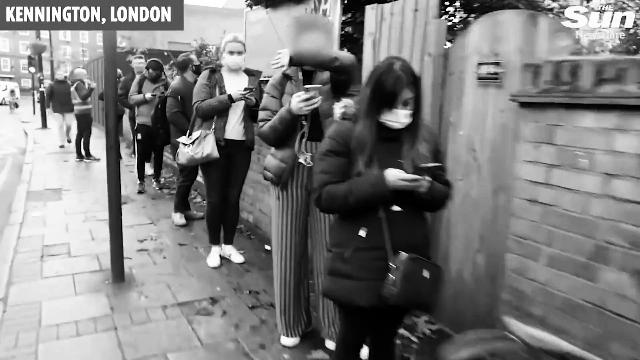berdiri: (304, 60, 458, 360), (254, 12, 366, 346), (190, 27, 256, 270)
